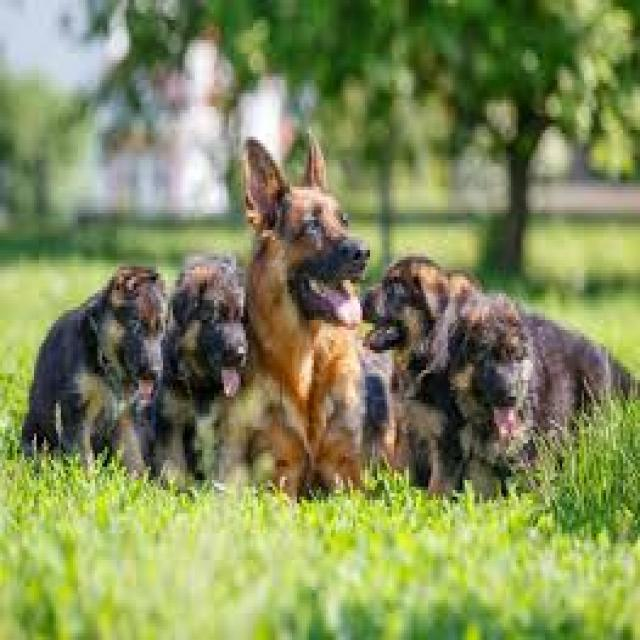Dog: (244, 114, 374, 481), (454, 297, 600, 492), (58, 262, 170, 432), (170, 253, 248, 421), (366, 247, 452, 372)
